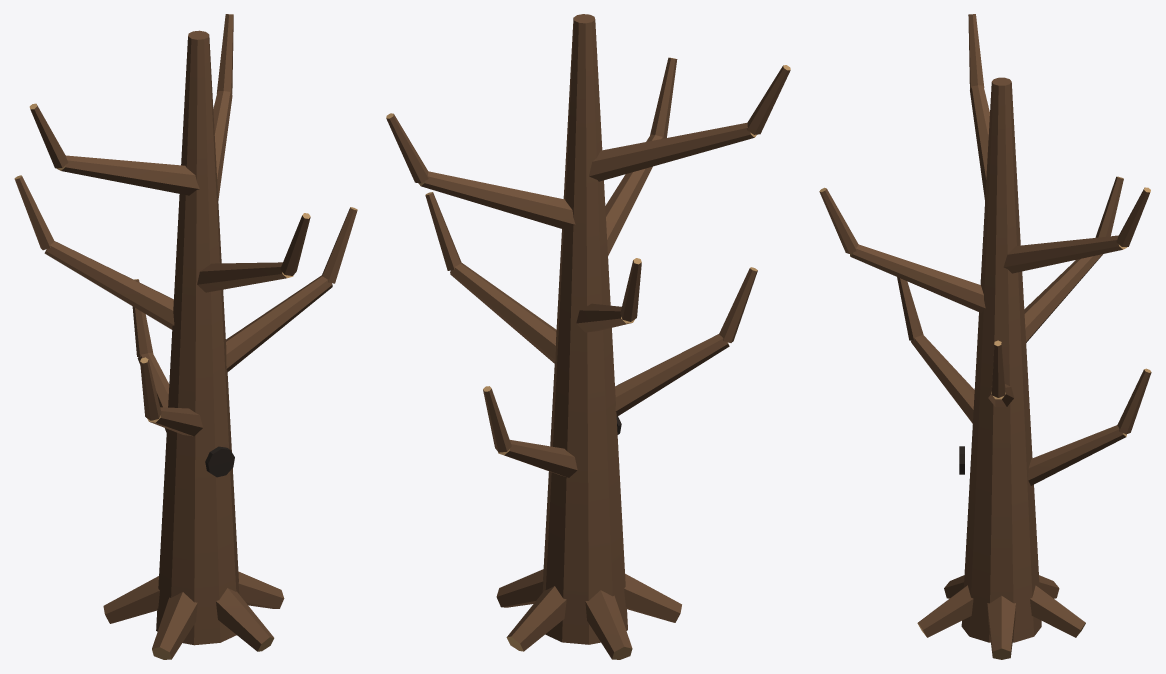
File: tree_dead_c.glb
3 renders of one model, left to right at view 1: azimuth 30°, elevation 25°; view 2: azimuth 150°, elevation 25°; view 3: azimuth 270°, elevation 25°, orthographic. The views are drawn at different scales.
Visible parts, largest first — view 1: tree_dead_c; view 2: tree_dead_c; view 3: tree_dead_c.
Boxes of the visible parts, left/top/right/bottom form: tree_dead_c: left=14, top=14, right=357, bottom=659; tree_dead_c: left=386, top=14, right=790, bottom=659; tree_dead_c: left=819, top=14, right=1151, bottom=659.
Size of the model in its own units: 3.26 by 5.4 by 2.98.
